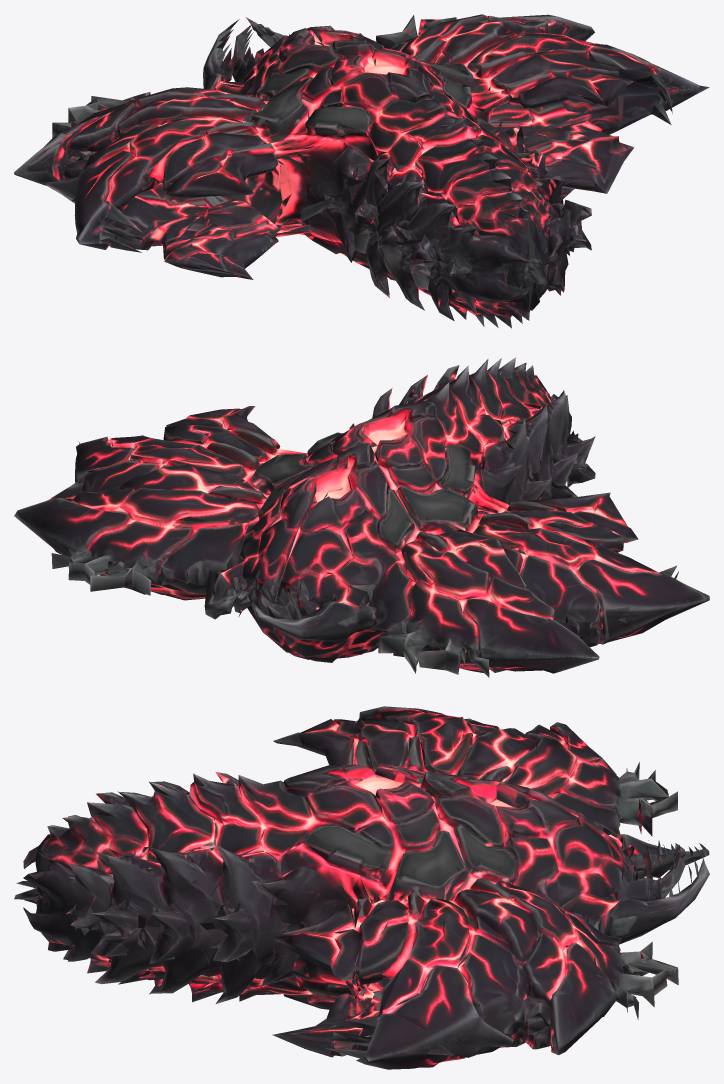
Rendered from vexor.glb.
3 views of the same model, one above another, from view 1: azimuth 30°, elevation 25°; view 2: azimuth 150°, elevation 25°; view 3: azimuth 270°, elevation 25° (orthographic). The views are drawn at different scales.
Parts seen in each view (by area): view 1: vexor-v3; view 2: vexor-v3; view 3: vexor-v3.
Part boxes in pixels (x1,y1,x2,y2): vexor-v3: (14,14,709,328); vexor-v3: (14,357,709,677); vexor-v3: (14,706,709,1069).
Bounding box in the file's own units: 1.91 × 0.5895 × 1.61.
1 material, 1 textured.
